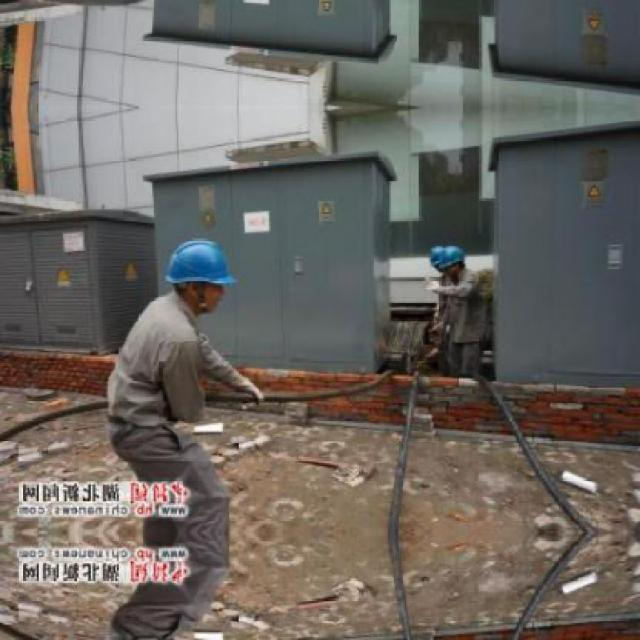helmet: (158, 234, 240, 315), (438, 240, 468, 278), (426, 244, 445, 274)
